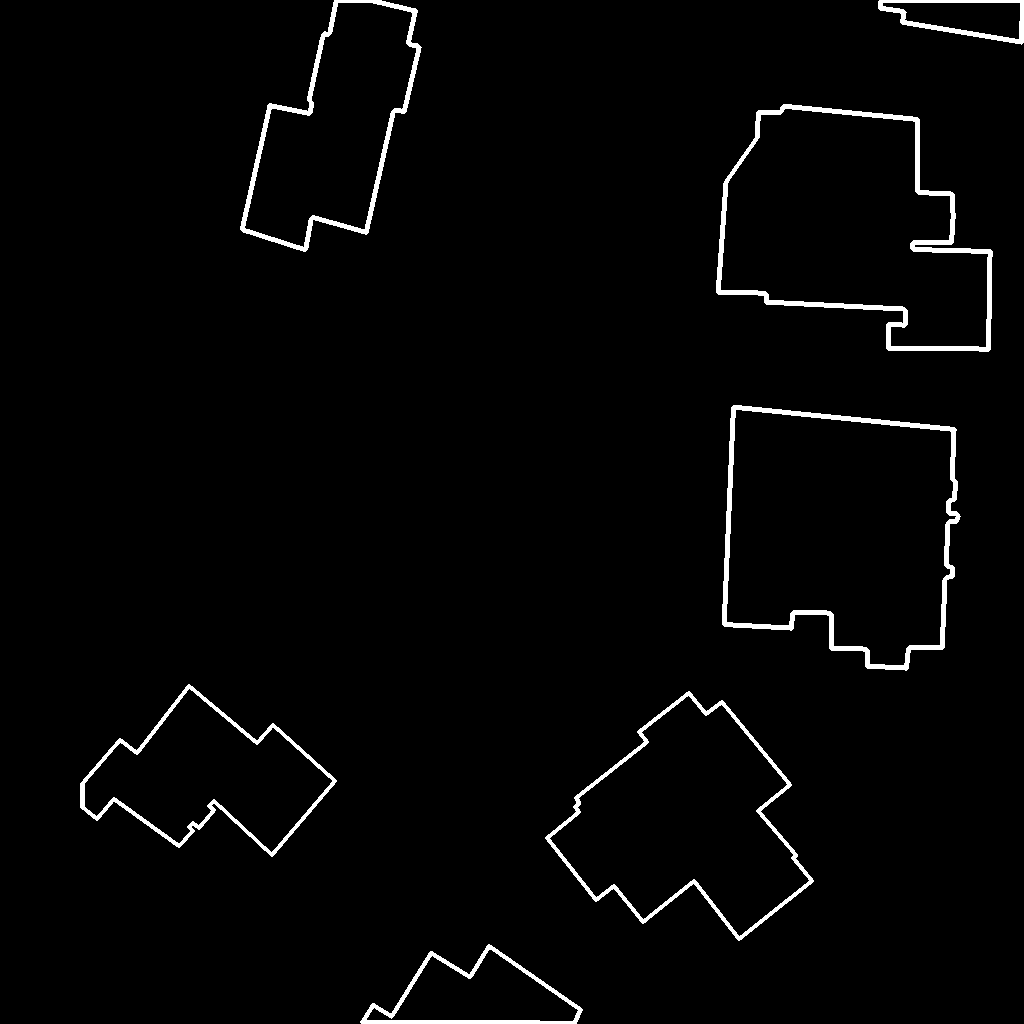building: (718, 106, 991, 350), (547, 693, 813, 940), (724, 407, 959, 669), (242, 0, 420, 251), (82, 686, 336, 856), (362, 946, 583, 1024), (880, 0, 1024, 43)
